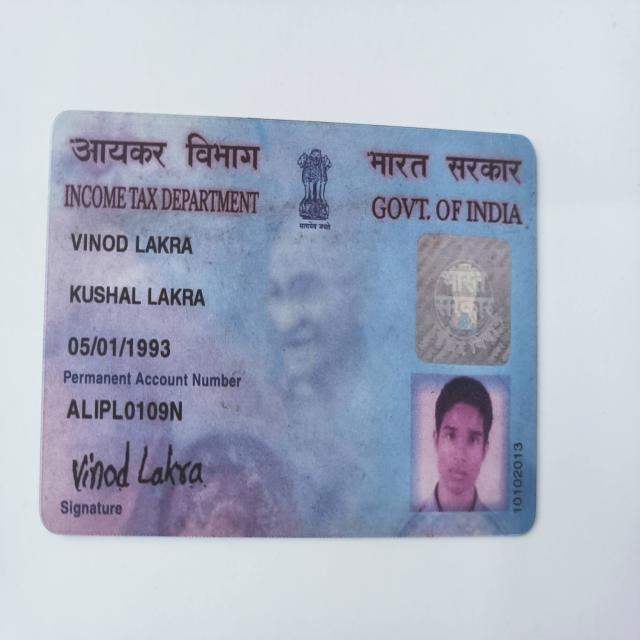pan_card: (43, 117, 537, 530)
